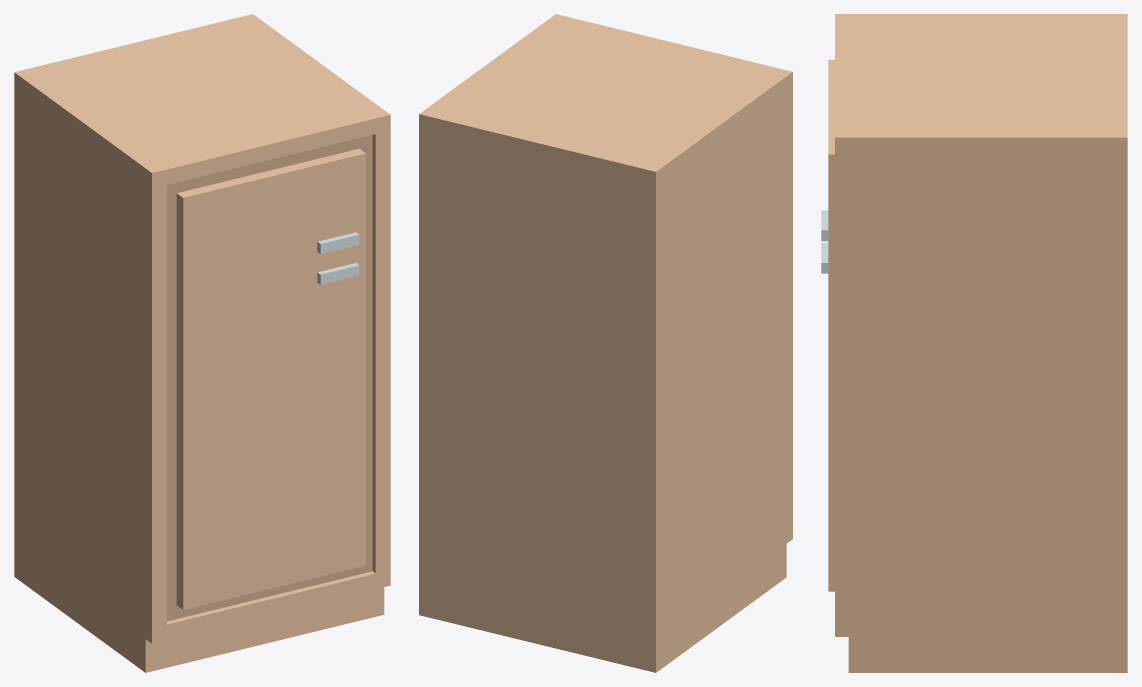
File: kitchenFridgeBuiltIn.glb
The picture shows the model from 3 angles, left to right: view 1: azimuth 30°, elevation 25°; view 2: azimuth 150°, elevation 25°; view 3: azimuth 270°, elevation 25°; orthographic projection. The views are drawn at different scales.
Parts seen in each view (by area): view 1: kitchenFridgeBuiltIn(Clone), doorFridge, doorFreezer; view 2: kitchenFridgeBuiltIn(Clone); view 3: kitchenFridgeBuiltIn(Clone), doorFridge, doorFreezer.
Part boxes in pixels (<box>): kitchenFridgeBuiltIn(Clone): <box>14,14,390,672</box>; doorFridge: <box>176,250,365,609</box>; doorFreezer: <box>176,148,365,294</box>; kitchenFridgeBuiltIn(Clone): <box>419,14,792,672</box>; kitchenFridgeBuiltIn(Clone): <box>835,14,1127,672</box>; doorFridge: <box>821,242,834,591</box>; doorFreezer: <box>821,59,834,256</box>.
Size of the model in its own units: 0.43 by 0.8687 by 0.45.
